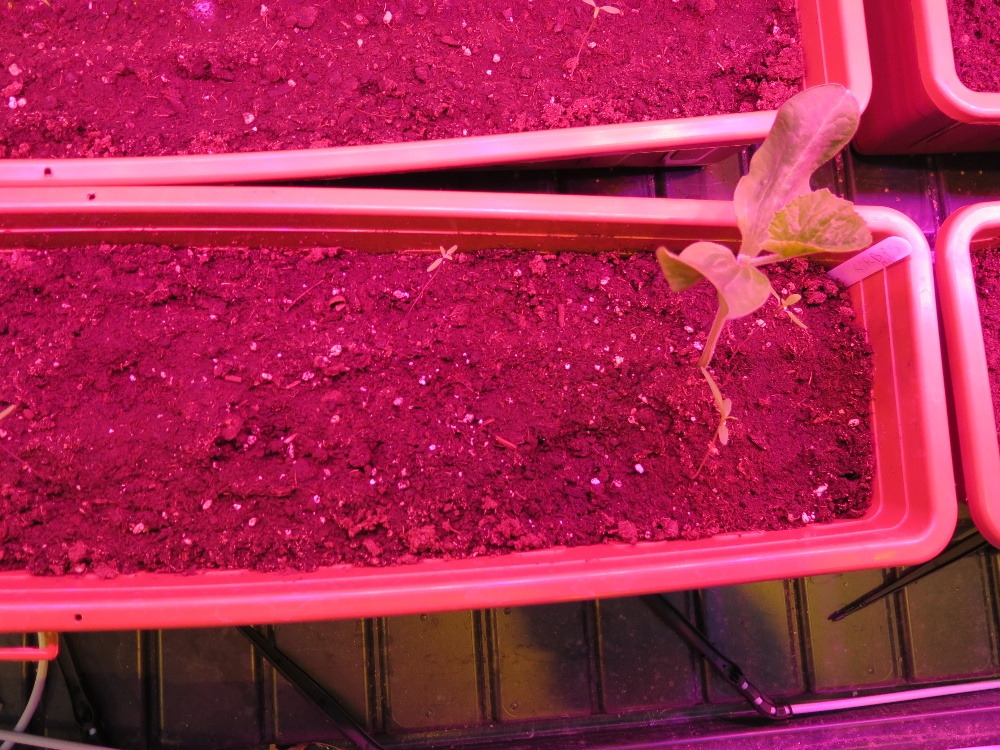crop: (657, 82, 875, 459)
weed: (425, 242, 458, 274)
